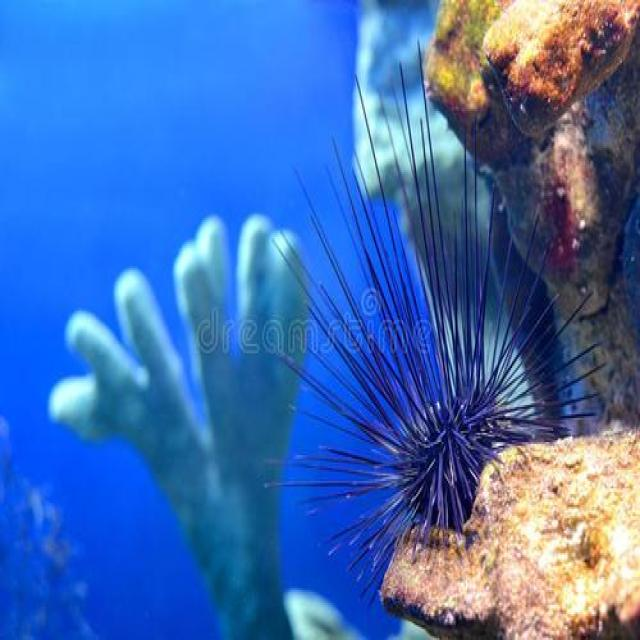Urchin: (283, 130, 576, 546)
